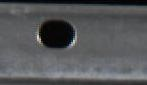holes: (36, 16, 78, 51)
